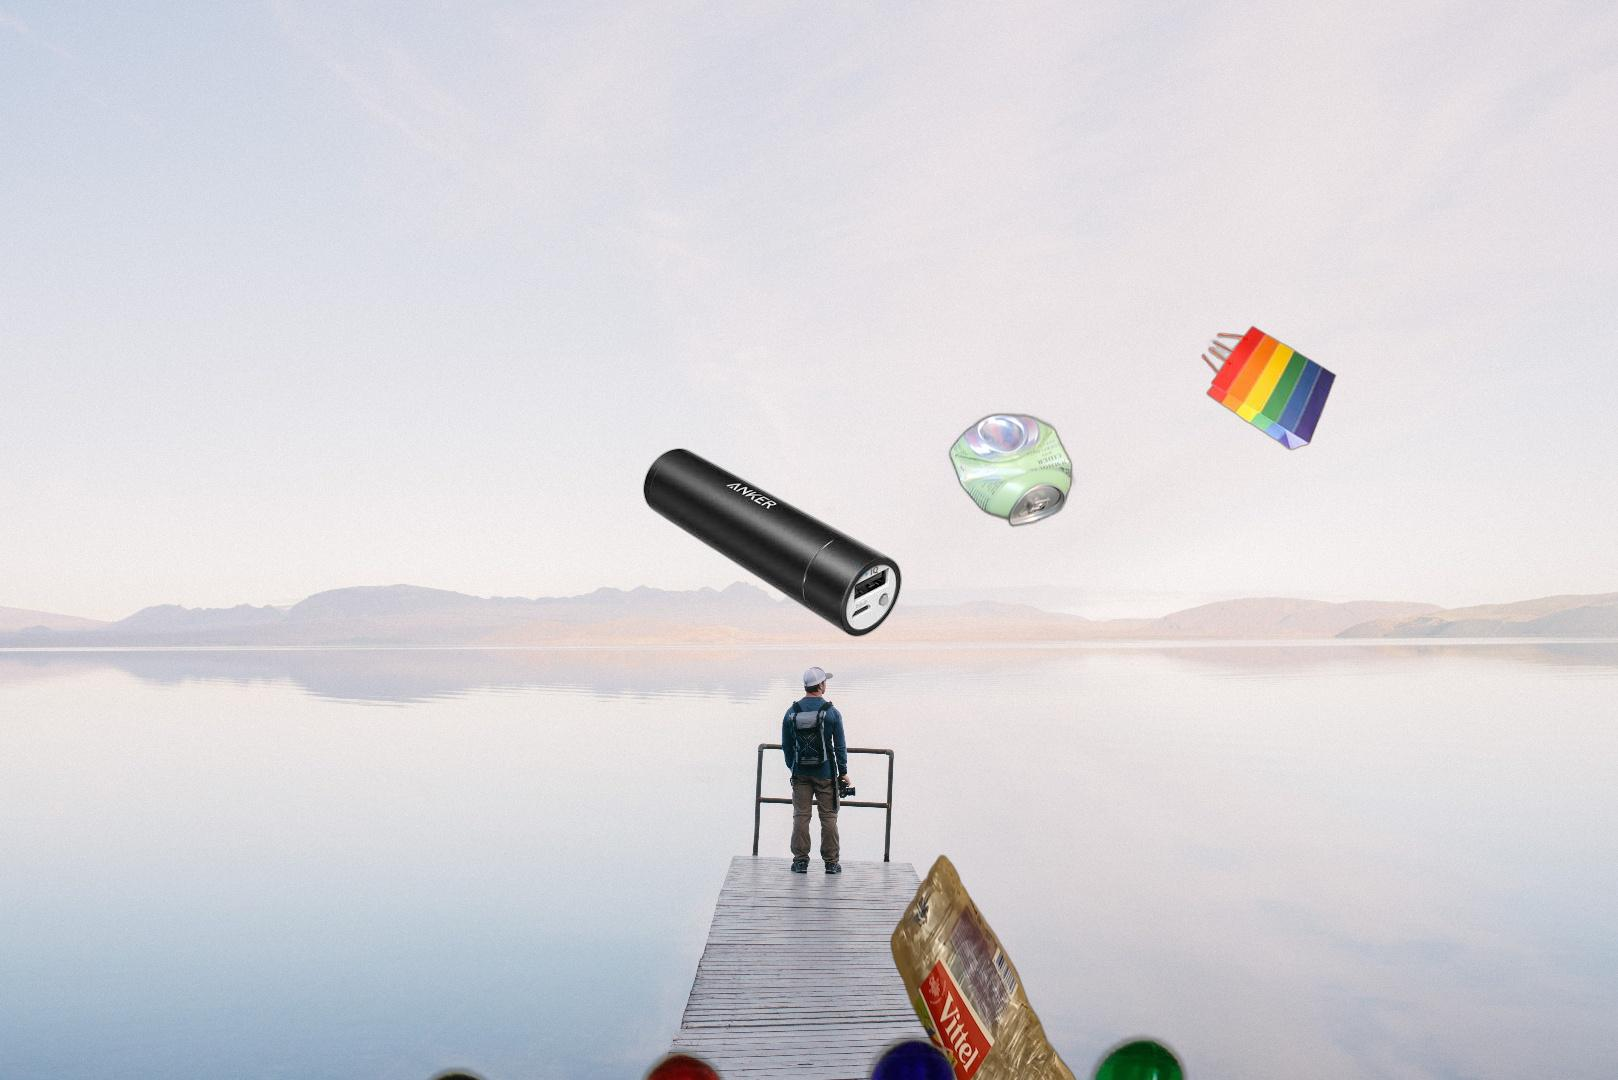battery: (643, 447, 902, 639)
metal-cans: (593, 407, 1105, 809)
paper-bag: (1199, 323, 1338, 452)
penholder: (143, 1020, 1198, 1080)
plastic-bottles: (889, 850, 1111, 1080)
